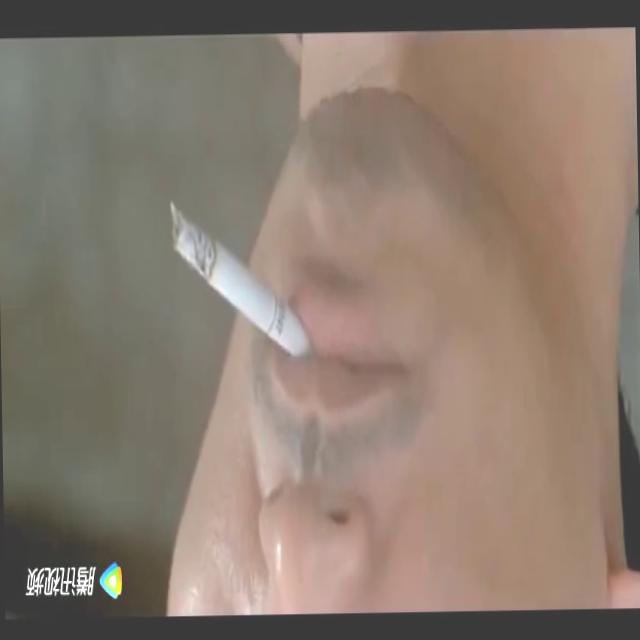smoke: (166, 185, 317, 384)
